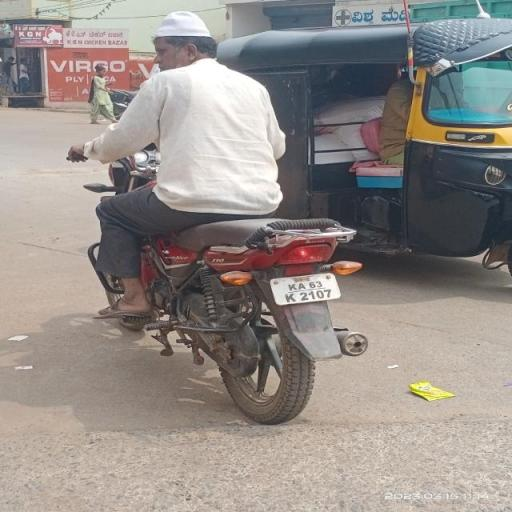bike: (66, 11, 378, 427)
numberplate: (271, 272, 342, 306)
withouthelmet: (154, 14, 210, 64)
